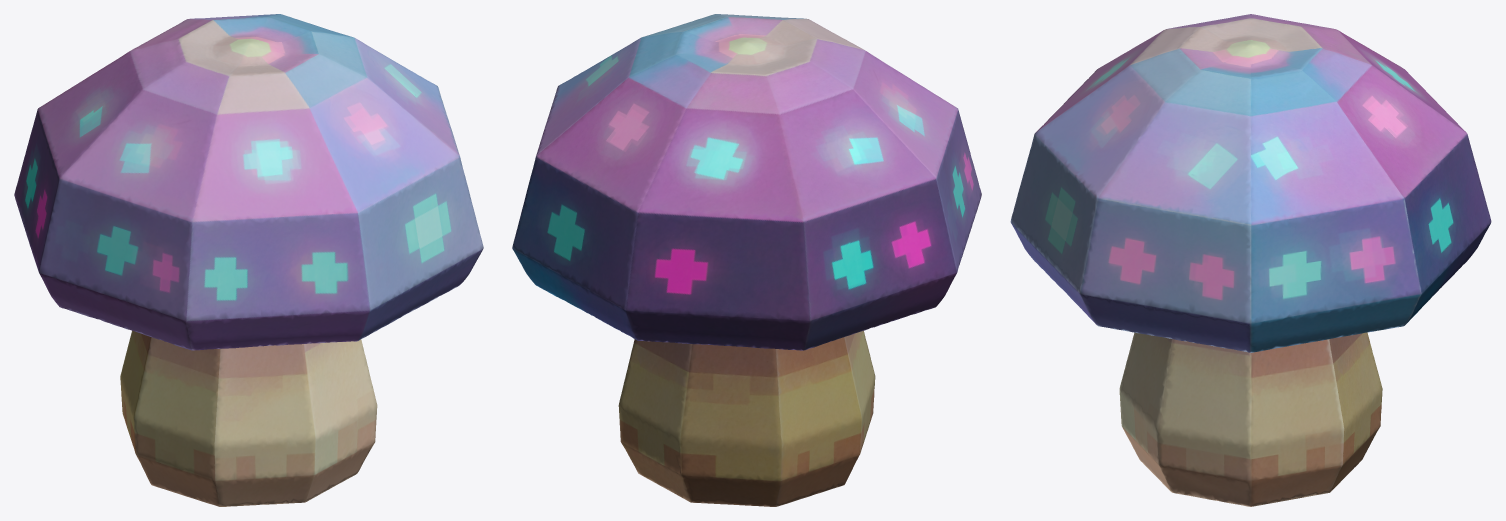
Rendered from Neon_Voxel_Mushroom.fbx.
3 views of the same model, side by side, from view 1: azimuth 30°, elevation 25°; view 2: azimuth 150°, elevation 25°; view 3: azimuth 270°, elevation 25° (orthographic).
Parts seen in each view (by area): view 1: texture_mapping; view 2: texture_mapping; view 3: texture_mapping.
Boxes of the visible parts, x1=… form: texture_mapping: x1=14, y1=14, x2=483, y2=506; texture_mapping: x1=512, y1=14, x2=981, y2=506; texture_mapping: x1=1010, y1=14, x2=1491, y2=506.
Bounding box in the file's own units: 0.9992 × 0.9995 × 0.9694.
1 material, 1 textured.
